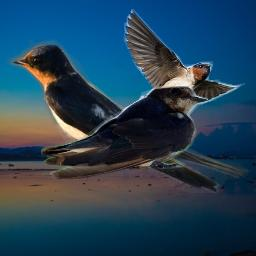Swallow: (6, 37, 250, 193), (41, 86, 208, 180), (123, 9, 245, 134)
